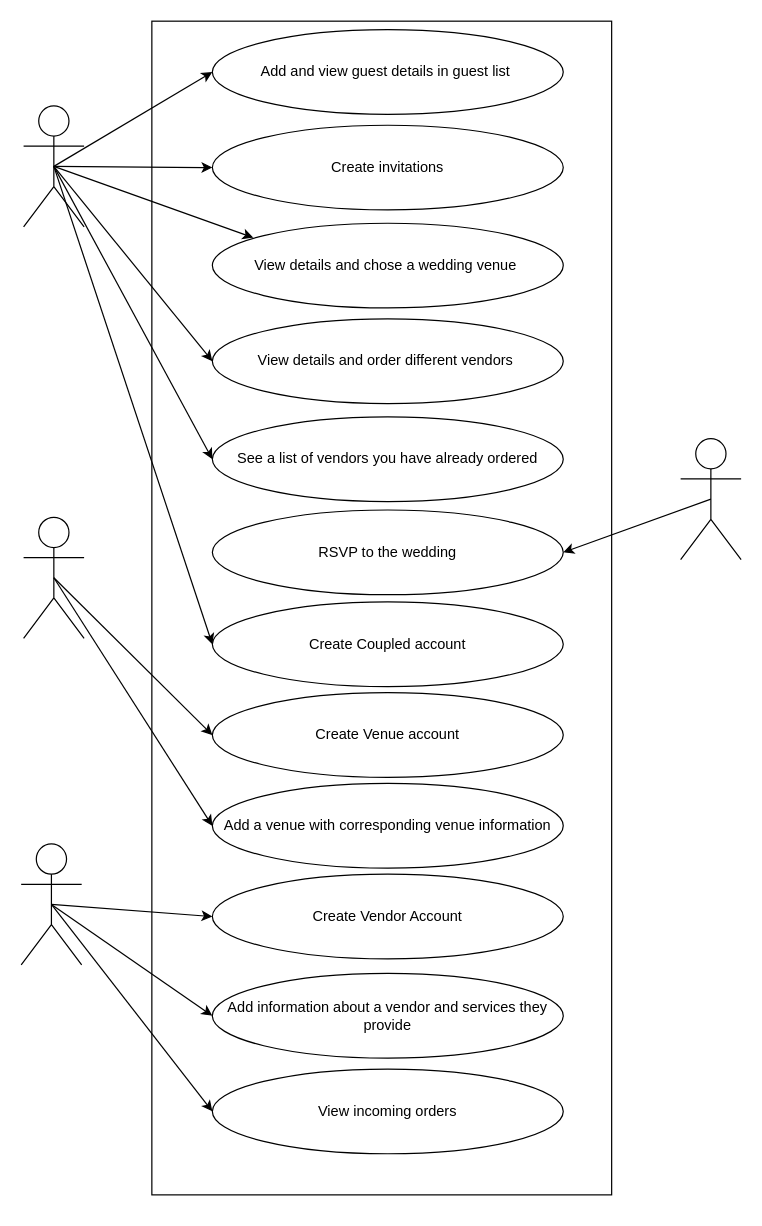
Image size: 762x1226. Some labels were removed from this diagram. Here are the shapes that lost their labels. From the top down, the centre of each, then its label:
At point (53, 166): "Couple".
At point (710, 498): "Guest".
At point (53, 577): "Venue".
At point (51, 904): "Vendor".
